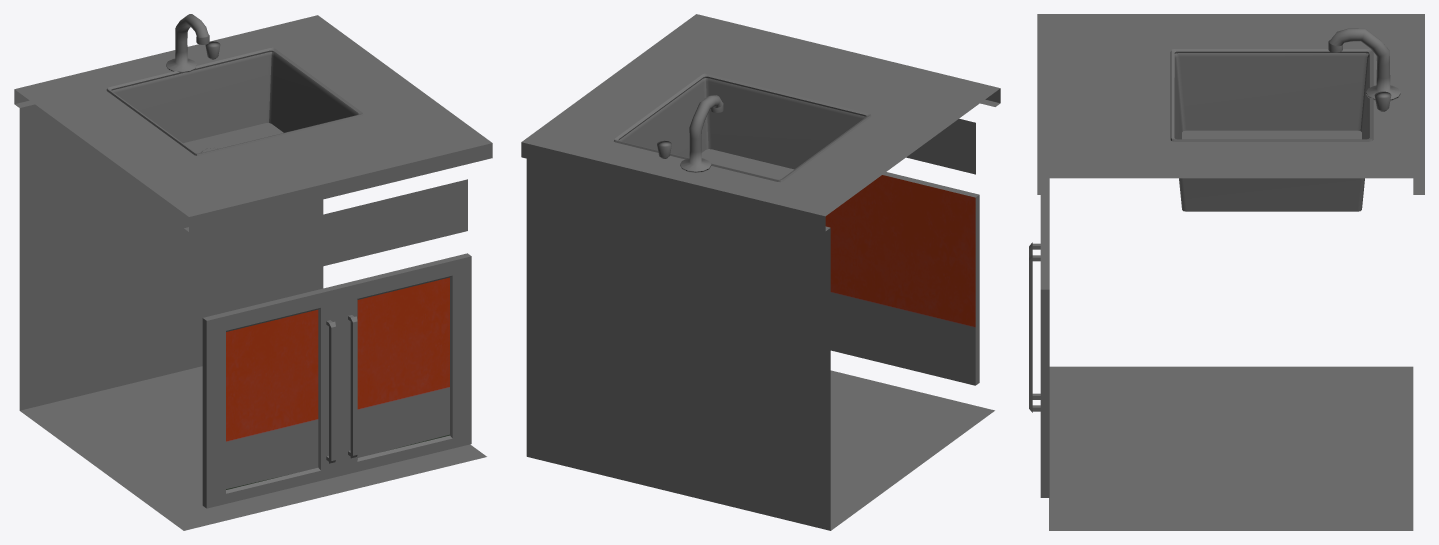
Rendered from Sink1.fbx.
3 views of the same model, side by side, from view 1: azimuth 30°, elevation 25°; view 2: azimuth 150°, elevation 25°; view 3: azimuth 270°, elevation 25° (orthographic). The views are drawn at different scales.
Visible parts, largest first — view 1: polySurface288; view 2: polySurface288; view 3: polySurface288.
Part boxes in pixels (x1,y1,x2,y2): polySurface288: (14,14,492,530); polySurface288: (521,14,1000,530); polySurface288: (1029,14,1424,530).
Bounding box in the file's own units: 1.07 × 1.27 × 1.09.
